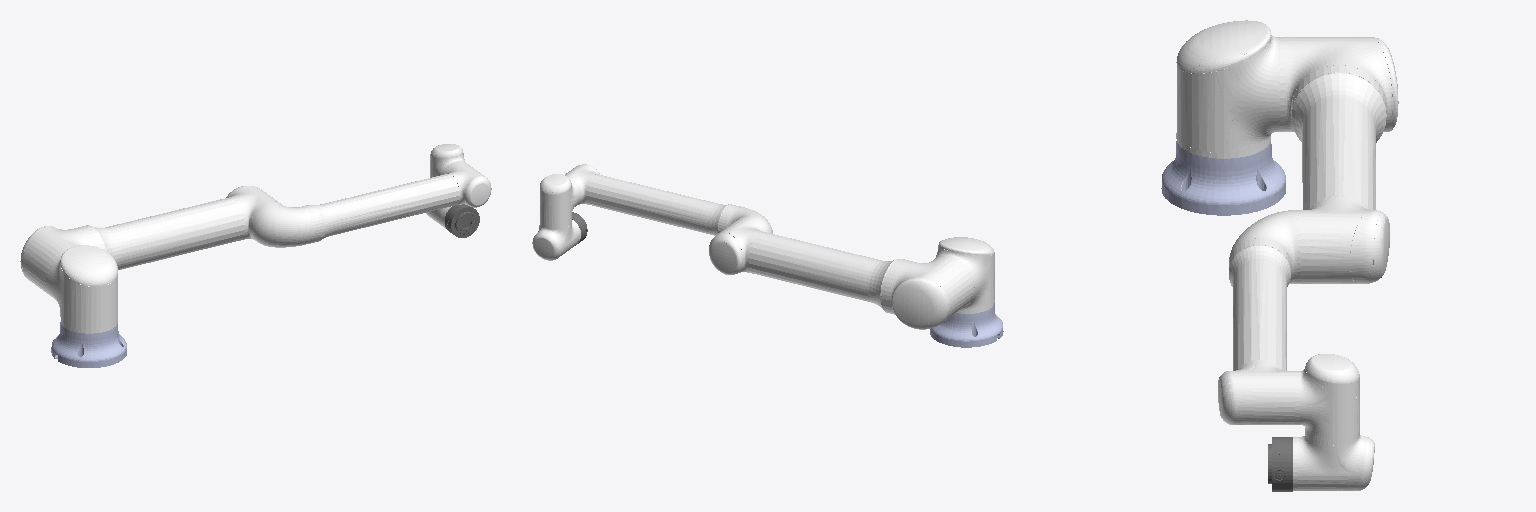
robot.urdf — ec612:
<?xml version="1.0" encoding="UTF-8"?>
<robot name="ec612">
   <link name="world" />
   <joint name="world_joint" type="fixed">
      <origin xyz="0 0 0" rpy="0 0 0" />
      <parent link="world" />
      <child link="base_link" />
   </joint>
   <link name="base_link">
   <inertial>
      <origin xyz="-0.0009283 -9.3169E-06 0.05675" rpy="0 0 0" />
      <mass value="0.96661" />
      <inertia ixx="0.0024056" ixy="-4.4072E-08" ixz="-3.4836E-05" iyy="0.0022827" iyz="-2.2372E-07" izz="0.0035887" />
   </inertial>
   <visual>
      <origin xyz="0 0 0" rpy="0 0 0" />
      <geometry>
         <mesh filename="package://elite_description/meshes/ec612/base_link.STL" />
      </geometry>
      <material name="">
         <color rgba="0.79216 0.81961 0.93333 1" />
      </material>
   </visual>
   <collision>
      <origin xyz="0 0 0" rpy="0 0 0" />
      <geometry>
         <mesh filename="package://elite_description/meshes/ec612/base_link.STL" />
      </geometry>
   </collision>
   </link>
   <link name="link1">
   <inertial>
      <origin xyz="-3.9632E-06 0.010506 -0.0056292" rpy="0 0 0" />
      <mass value="3.5947" />
      <inertia ixx="0.01211" ixy="-1.906E-07" ixz="-5.9544E-08" iyy="0.011358" iyz="-0.0010317" izz="0.012021" />
   </inertial>
   <visual>
      <origin xyz="0 0 0" rpy="0 0 0" />
      <geometry>
         <mesh filename="package://elite_description/meshes/ec612/link1.STL" />
      </geometry>
      <material name="">
         <color rgba="1 1 1 1" />
      </material>
   </visual>
   <collision>
      <origin xyz="0 0 0" rpy="0 0 0" />
      <geometry>
         <mesh filename="package://elite_description/meshes/ec612/link1.STL" />
      </geometry>
   </collision>
   </link>
   <joint name="joint1" type="revolute">
      <origin xyz="0 0 0.185" rpy="0 0 0" />
      <parent link="base_link" />
      <child link="link1" />
      <axis xyz="0 0 1" />
      <limit lower="-6.2832" upper="6.2832" effort="200" velocity="2.0944" />
   </joint>
   <link name="link2">
   <inertial>
      <origin xyz="0.2558 8.685E-07 0.18308" rpy="0 0 0" />
      <mass value="10.706" />
      <inertia ixx="0.024512" ixy="2.4186E-07" ixz="-0.00065236" iyy="0.11916" iyz="3.9378E-07" izz="0.11941" />
   </inertial>
   <visual>
      <origin xyz="0 0 0" rpy="0 0 0" />
      <geometry>
         <mesh filename="package://elite_description/meshes/ec612/link2.STL" />
      </geometry>
      <material name="">
         <color rgba="1 1 1 1" />
      </material>
   </visual>
   <collision>
      <origin xyz="0 0 0" rpy="0 0 0" />
      <geometry>
         <mesh filename="package://elite_description/meshes/ec612/link2.STL" />
      </geometry>
   </collision>
   </link>
   <joint name="joint2" type="revolute">
      <origin xyz="0 0 0" rpy="-1.5708 0 0" />
      <parent link="link1" />
      <child link="link2" />
      <axis xyz="0 0 1" />
      <limit lower="-6.2832" upper="6.2832" effort="200" velocity="2.0944" />
   </joint>
   <link name="link3">
   <inertial>
      <origin xyz="0.28329 -7.9581E-06 0.060967" rpy="0 0 0" />
      <mass value="4.5456" />
      <inertia ixx="0.0049702" ixy="-1.4106E-07" ixz="0.00018593" iyy="0.050299" iyz="-2.6283E-07" izz="0.0503" />
   </inertial>
   <visual>
      <origin xyz="0 0 0" rpy="0 0 0" />
      <geometry>
         <mesh filename="package://elite_description/meshes/ec612/link3.STL" />
      </geometry>
      <material name="">
         <color rgba="1 1 1 1" />
      </material>
   </visual>
   <collision>
      <origin xyz="0 0 0" rpy="0 0 0" />
      <geometry>
         <mesh filename="package://elite_description/meshes/ec612/link3.STL" />
      </geometry>
   </collision>
   </link>
   <joint name="joint3" type="revolute">
      <origin xyz="0.615 0 0" rpy="0 0 0" />
      <parent link="link2" />
      <child link="link3" />
      <axis xyz="0 0 1" />
      <limit lower="-2.7925" upper="2.7925" effort="150" velocity="2.618" />
   </joint>
   <link name="link4">
   <inertial>
      <origin xyz="0.000499517889352763 0.000875789216374712 0.168282791916811" rpy="0 0 0" />
      <mass value="0.843449158786285" />
      <inertia ixx="0.000924074695306208" ixy="-1.6181467913015E-08" ixz="7.26551673486314E-10"
         iyy="0.000889444283147283" iyz="-0.000128958334773031" izz="0.00087341536640418" />
   </inertial>
   <visual>
      <origin xyz="0 0 0" rpy="0 0 0" />
      <geometry>
         <mesh filename="package://elite_description/meshes/ec612/link4.STL" />
      </geometry>
      <material name="">
         <color rgba="1 1 1 1" />
      </material>
   </visual>
   <collision>
      <origin xyz="0 0 0" rpy="0 0 0" />
      <geometry>
         <mesh filename="package://elite_description/meshes/ec612/link4.STL" />
      </geometry>
   </collision>
   </link>
   <joint name="joint4" type="revolute">
      <origin xyz="0.572 0 0" rpy="0 0 0" />
      <parent link="link3" />
      <child link="link4" />
      <axis xyz="0 0 1" />
      <limit lower="-6.2832" upper="6.2832" effort="35" velocity="3.6652" />
   </joint>
   <link name="link5">
   <inertial>
      <origin xyz="0.000499517889352097 0.000875839859510064 0.110782741273677" rpy="0 0 0" />
      <mass value="0.843449158786269" />
      <inertia ixx="0.000924074695306195" ixy="-1.6181467914913E-08" ixz="7.26551670563271E-10"
         iyy="0.000889444283147262" iyz="-0.000128958334773028" izz="0.00087341536640416" />
   </inertial>
   <visual>
      <origin xyz="0 0 0" rpy="0 0 0" />
      <geometry>
         <mesh filename="package://elite_description/meshes/ec612/link5.STL" />
      </geometry>
      <material name="">
         <color rgba="1 1 1 1" />
      </material>
   </visual>
   <collision>
      <origin xyz="0 0 0" rpy="0 0 0" />
      <geometry>
         <mesh filename="package://elite_description/meshes/ec612/link5.STL" />
      </geometry>
   </collision>
   </link>
   <joint name="joint5" type="revolute">
      <origin xyz="0 0 0.174" rpy="-1.5708 0 0" />
      <parent link="link4" />
      <child link="link5" />
      <axis xyz="0 0 1" />
      <limit lower="-6.2832" upper="6.2832" effort="30" velocity="3.6652" />
   </joint>
   <link name="link6">
   <inertial>
      <origin xyz="0.00050459 -0.00047999 -0.021345" rpy="0 0 0" />
      <mass value="0.20756" />
      <inertia ixx="0.00010768" ixy="-1.152E-09" ixz="-4.7861E-09" iyy="0.00011933" iyz="-8.1484E-08"
         izz="0.00017733" />
   </inertial>
   <visual>
      <origin xyz="0 0 0" rpy="0 0 0" />
      <geometry>
         <mesh filename="package://elite_description/meshes/ec612/link6.STL" />
      </geometry>
      <material name="">
         <color rgba="0.49804 0.49804 0.49804 1" />
      </material>
   </visual>
   <collision>
      <origin xyz="0 0 0" rpy="0 0 0" />
      <geometry>
         <mesh filename="package://elite_description/meshes/ec612/link6.STL" />
      </geometry>
   </collision>
   </link>
   <joint name="joint6" type="revolute">
      <origin xyz="0 0.103 0.116" rpy="-1.5708 0 0" />
      <parent link="link5" />
      <child link="link6" />
      <axis xyz="0 0 1" />
      <limit lower="-6.2832" upper="6.2832" effort="25" velocity="3.6652" />
   </joint>
   <link name="flan" />
   <joint name="flan_joint" type="fixed">
      <origin xyz="0 0 0" rpy="0 0 0" />
      <parent link="link6" />
      <child link="flan" />
   </joint>
</robot>

--- Facts derived from the render (not from the file) ---
3 views of the same robot in one strip: view 1: azimuth 30°, elevation 25°; view 2: azimuth 150°, elevation 25°; view 3: azimuth 270°, elevation 25° (orthographic).
Model ec612 with 9 links and 8 joints (6 revolute, 2 fixed), rooted at world, posed all joints at 0.
Links seen in each view (by area): view 1: link2, link3, link1, base_link, link6, link4; view 2: link2, link3, link1, base_link, link4, link5; view 3: link2, link3, link1, base_link, link4, link5, link6.
Boxes of the visible links, x1,y1,x2,y2 form: link2: (20,186,280,296); link3: (250,161,491,247); link1: (47,245,117,333); base_link: (51,322,126,367); link6: (445,204,479,237); link4: (430,144,464,177); link2: (709,218,974,329); link3: (565,164,772,235); link1: (935,237,994,313); base_link: (930,303,1003,347); link4: (540,174,578,228); link5: (532,220,580,260); link2: (1280,37,1398,283); link3: (1218,210,1299,424); link1: (1176,20,1279,158); base_link: (1161,141,1285,215); link4: (1300,354,1359,445); link5: (1293,434,1374,490); link6: (1268,437,1292,491).
Bounding box of the posed robot: 1.33 × 0.3795 × 0.28 m (x, y, z).
Meshes: 7 distinct files referenced, 7 mesh visuals loaded (7 binary STL).